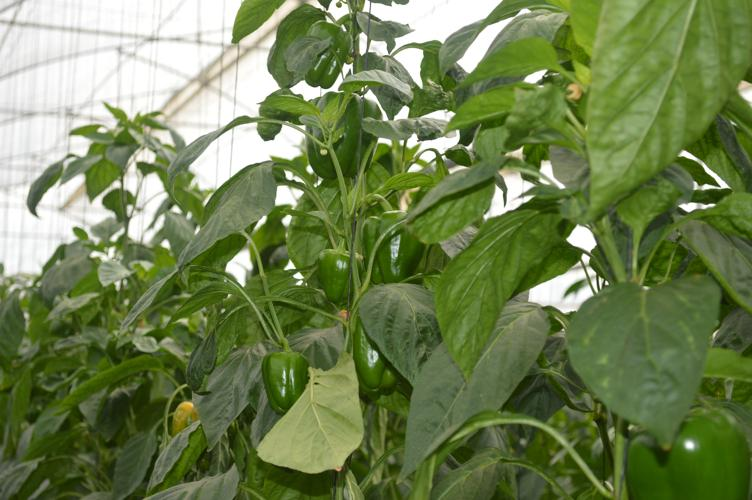BellPepper: (621, 408, 741, 499), (306, 99, 363, 179), (366, 212, 427, 284), (345, 325, 397, 400), (299, 24, 353, 90), (309, 248, 361, 307), (262, 350, 307, 410)
